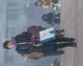person: (2, 29, 76, 54), (24, 26, 65, 38), (20, 50, 63, 58), (41, 11, 61, 26), (34, 1, 63, 9)
